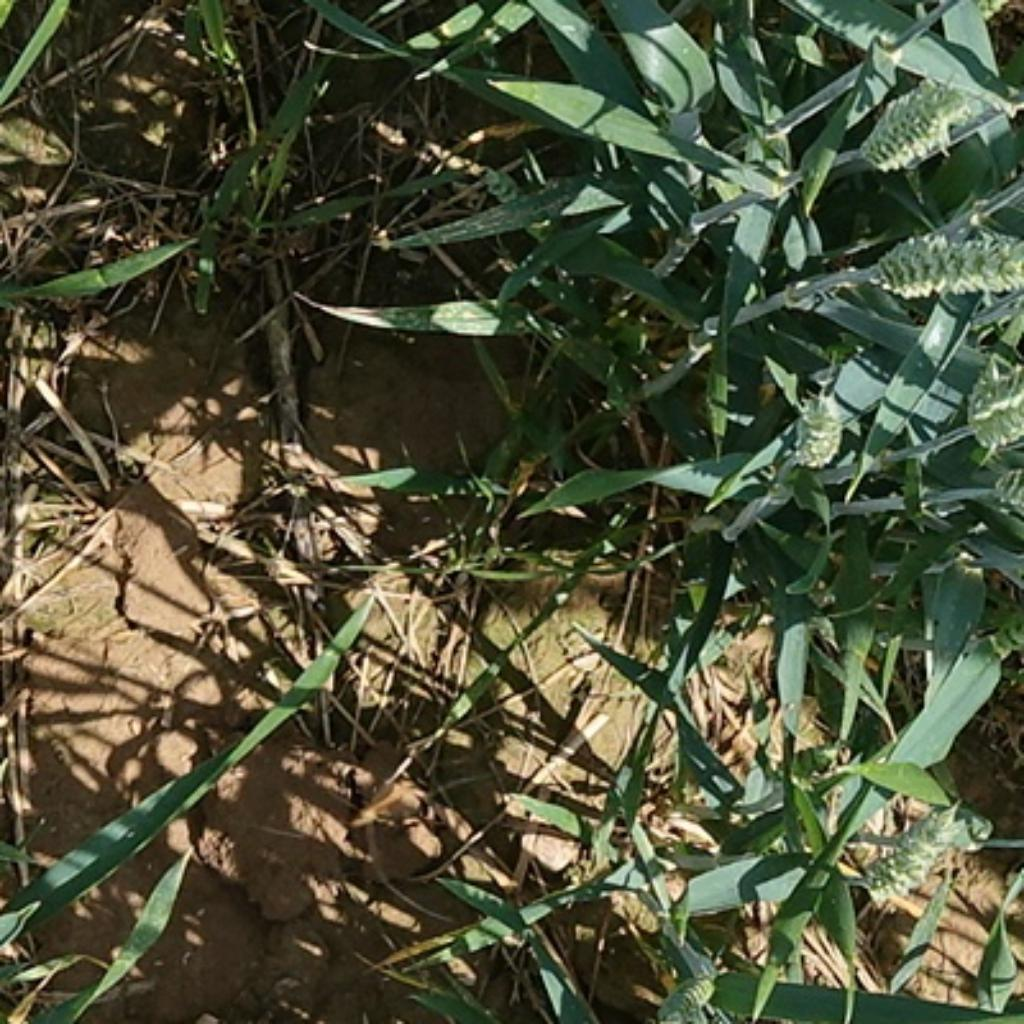0-0: (859, 72, 987, 180), (853, 802, 964, 914), (876, 224, 1019, 305), (967, 357, 1024, 459), (786, 392, 847, 471), (651, 973, 722, 1020)
